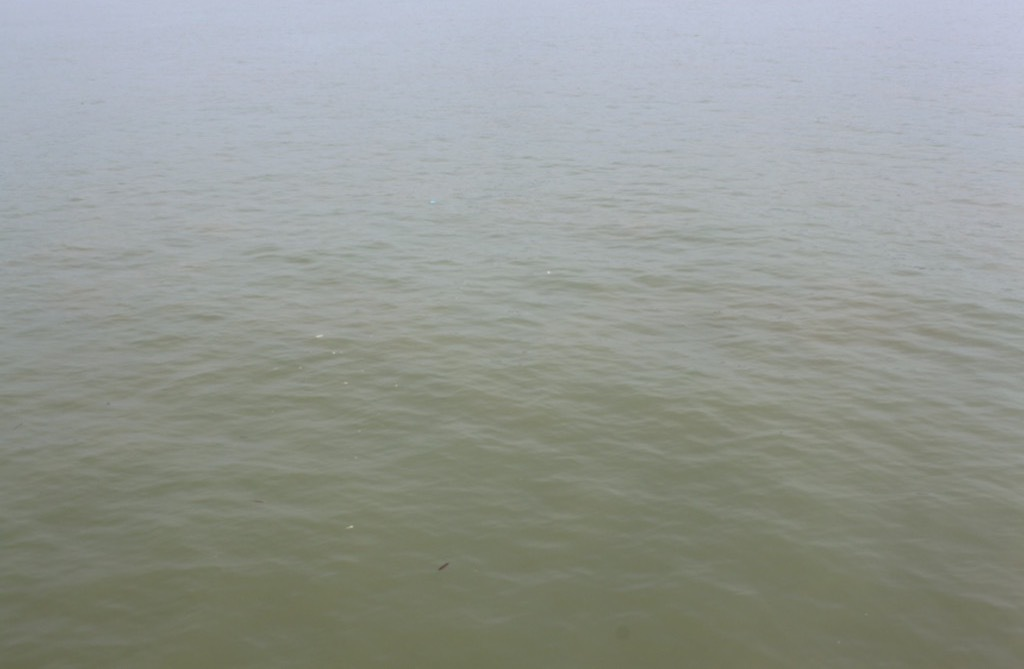organic: (432, 555, 458, 578)
plastic: (341, 522, 356, 532), (427, 197, 439, 206), (313, 332, 325, 340), (544, 268, 553, 277), (330, 349, 338, 356), (393, 383, 401, 390), (342, 380, 348, 386)
